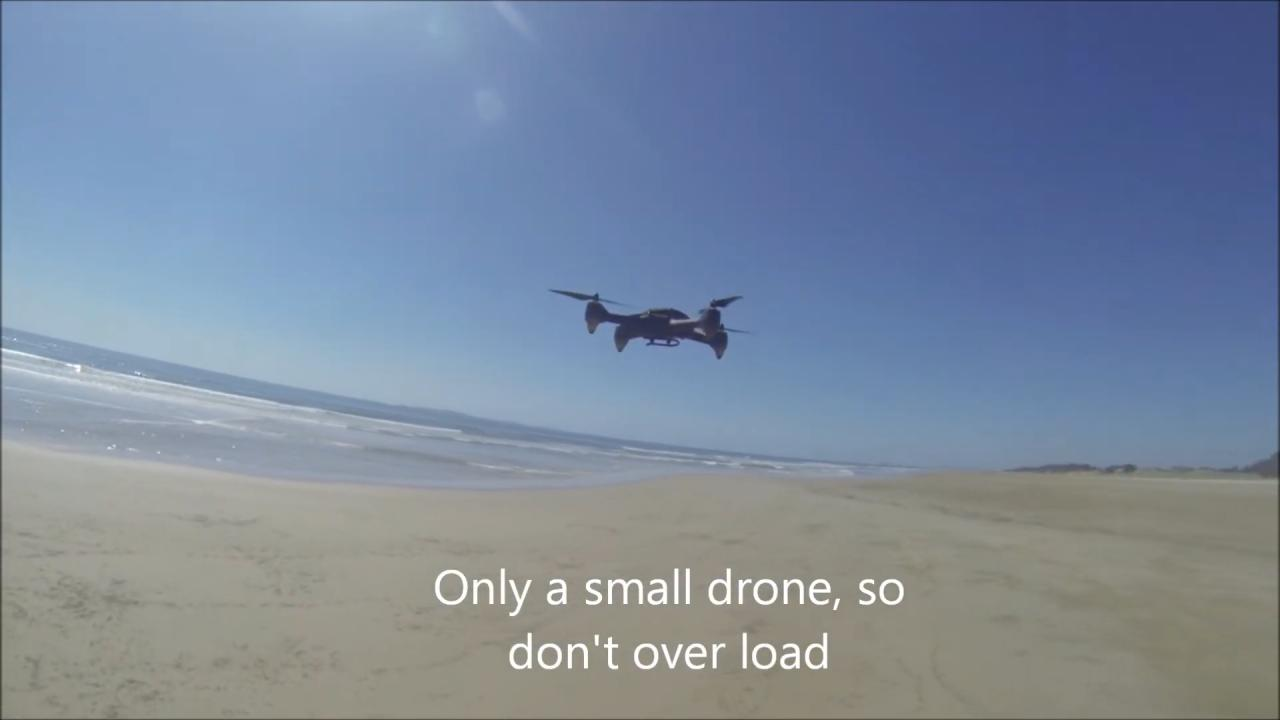Drone: (537, 277, 762, 373)
